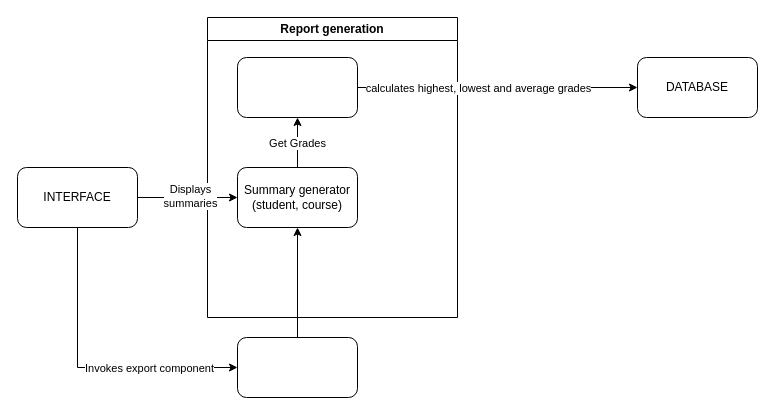
Some shapes in this 775 by 415 pixel diagram are drawn without their labels. Each missing label, with the centre of its shape:
"EXPORT" goes at (297,367).
"Grade processor" goes at (297,87).
